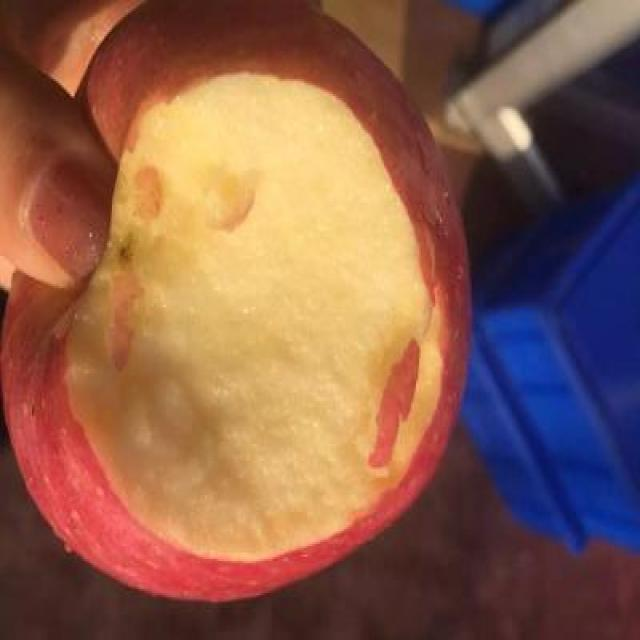Rotten: (22, 29, 474, 567)
